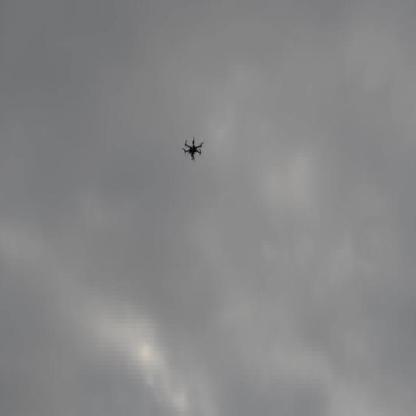drone: (183, 133, 206, 163)
